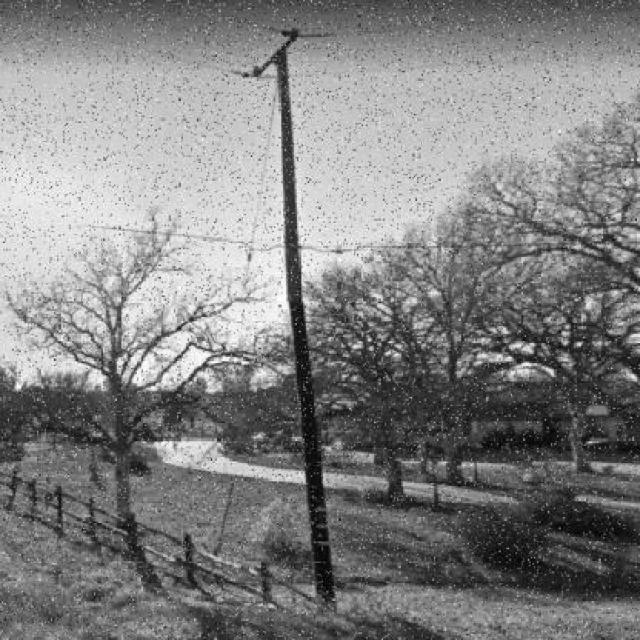pole: (215, 0, 363, 606)
